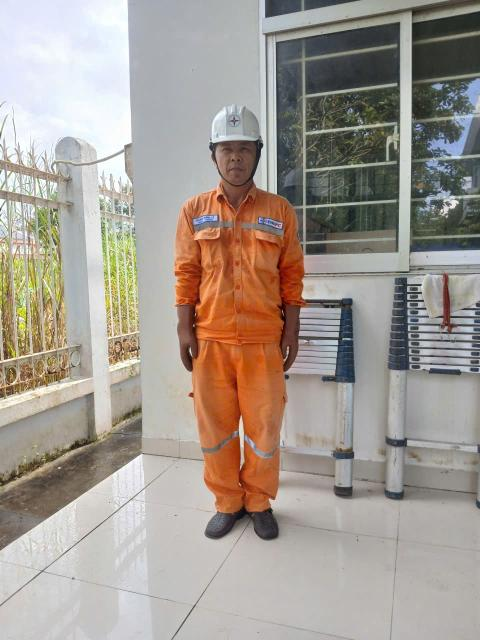harness: (173, 296, 207, 380), (282, 298, 303, 367)
helmet: (195, 94, 278, 148)
shoes: (198, 479, 243, 544), (244, 497, 290, 547)
